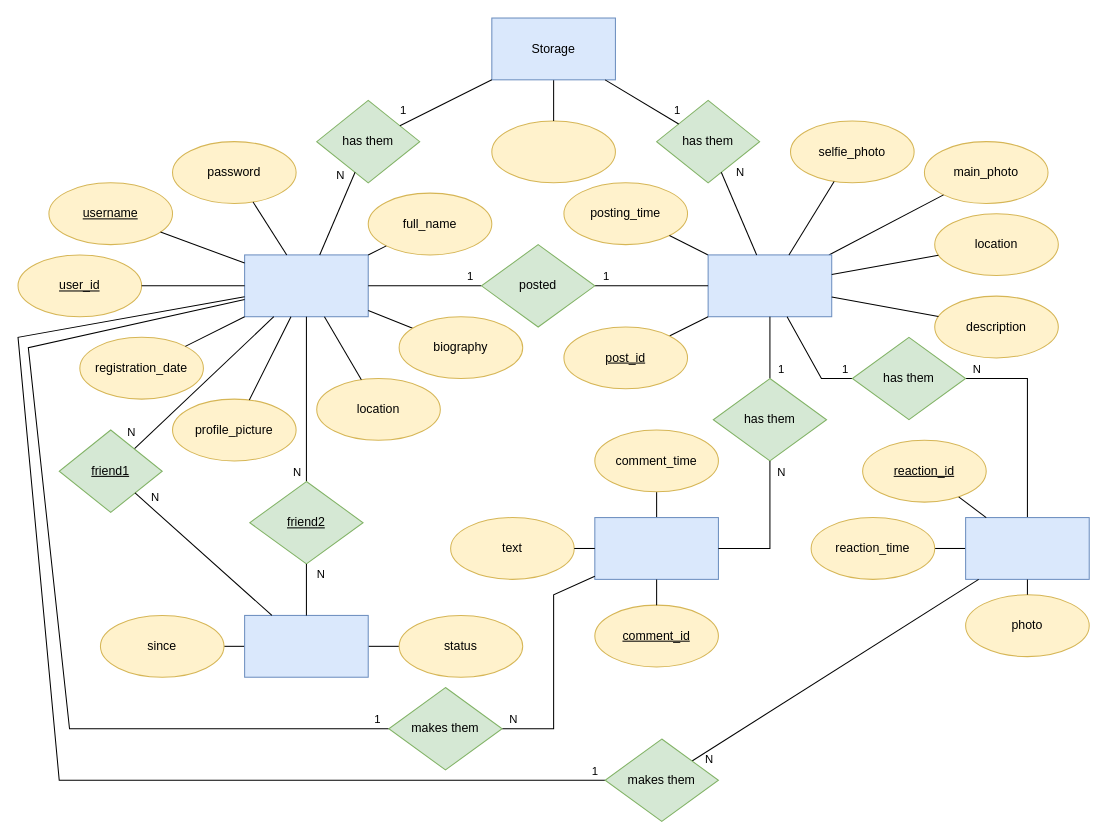
Image size: 1107x839. Some labels were removed from this diagram. The shapes that lost their labels are listed below. From the top down, each one's box as (x1, y1, x2, y2) in pixels, then its label:
(491, 120, 615, 183): is_on_time
(244, 254, 368, 317): User
(707, 254, 832, 317): Post
(594, 517, 718, 579): Comment
(965, 517, 1089, 579): Reaction
(244, 614, 368, 677): Friendlist
